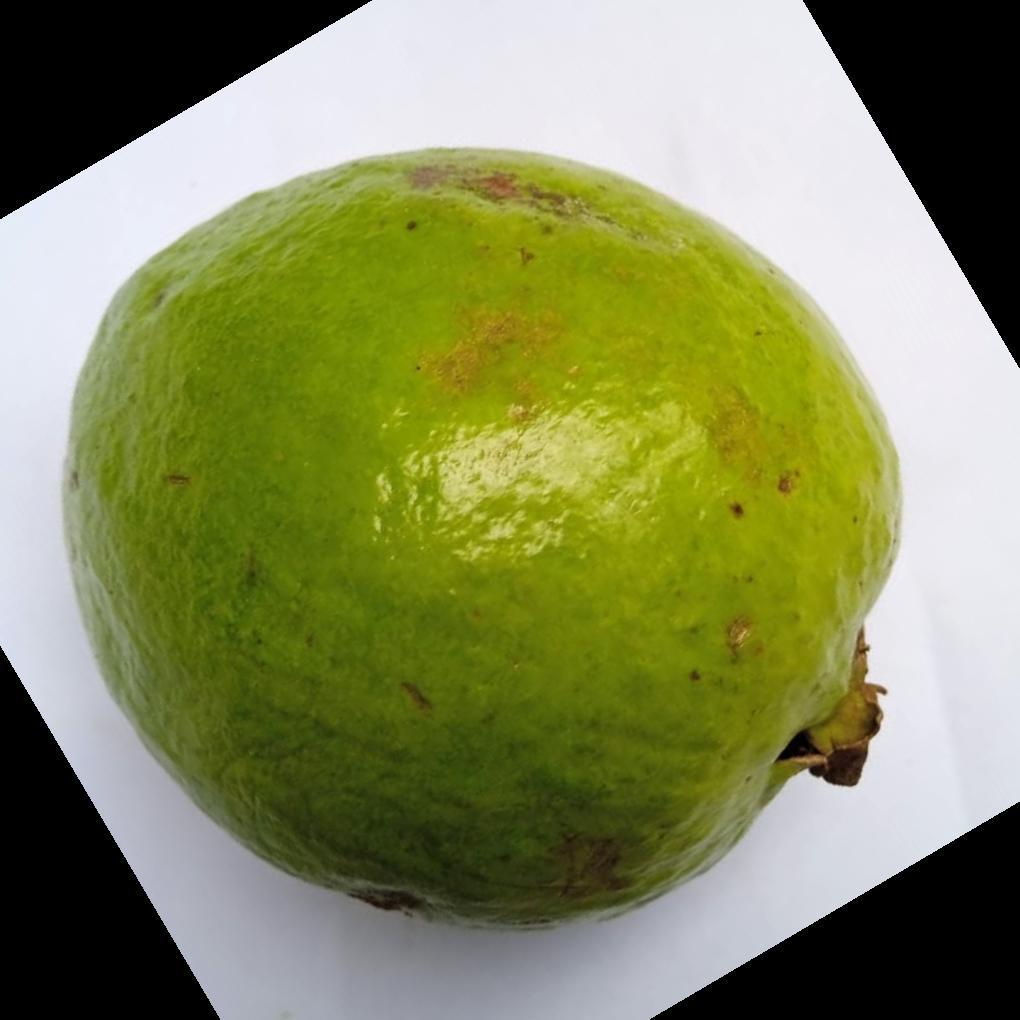FreshGuava: (60, 146, 904, 934)
